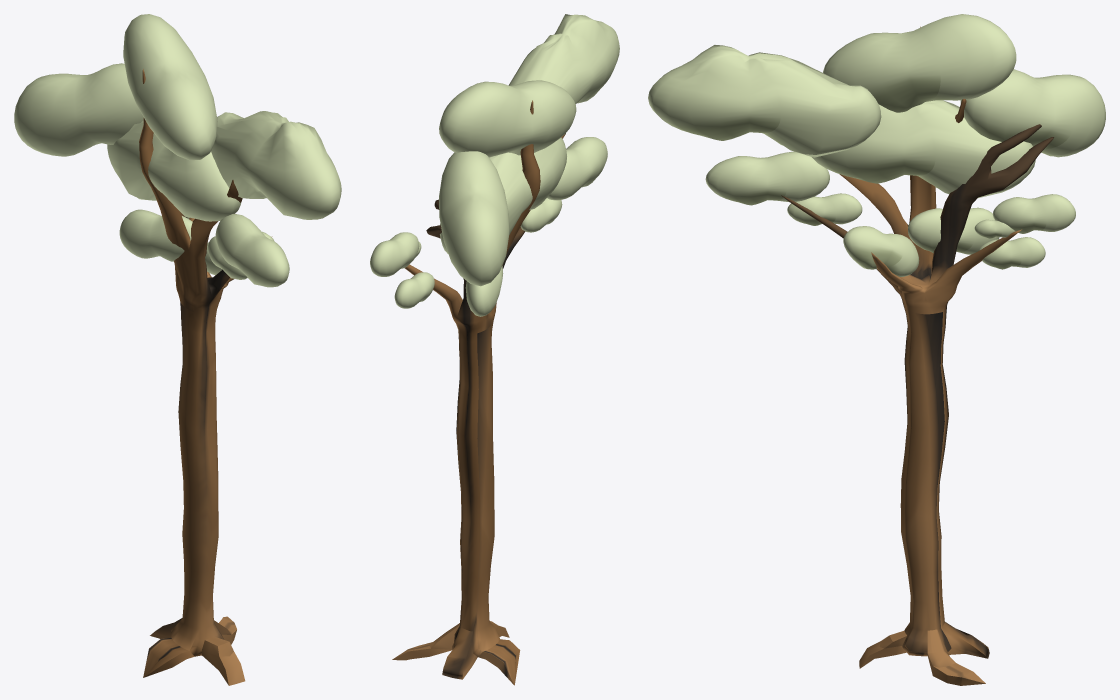
File: Mahogany Tree.fbx
3 renders of one model, left to right at view 1: azimuth 30°, elevation 25°; view 2: azimuth 150°, elevation 25°; view 3: azimuth 270°, elevation 25°, orthographic. The views are drawn at different scales.
Visible parts, largest first — view 1: pSphere23; view 2: pSphere23; view 3: pSphere23.
Boxes of the visible parts, x1,y1,x2,y2 form: pSphere23: (14,14,341,685); pSphere23: (370,14,619,685); pSphere23: (648,14,1105,685).
Bounding box in the file's own units: 273 × 1037 × 669.
Materials: 1 (1 with a texture image).
